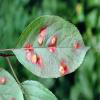Apple rust leaf: (11, 15, 91, 79)
